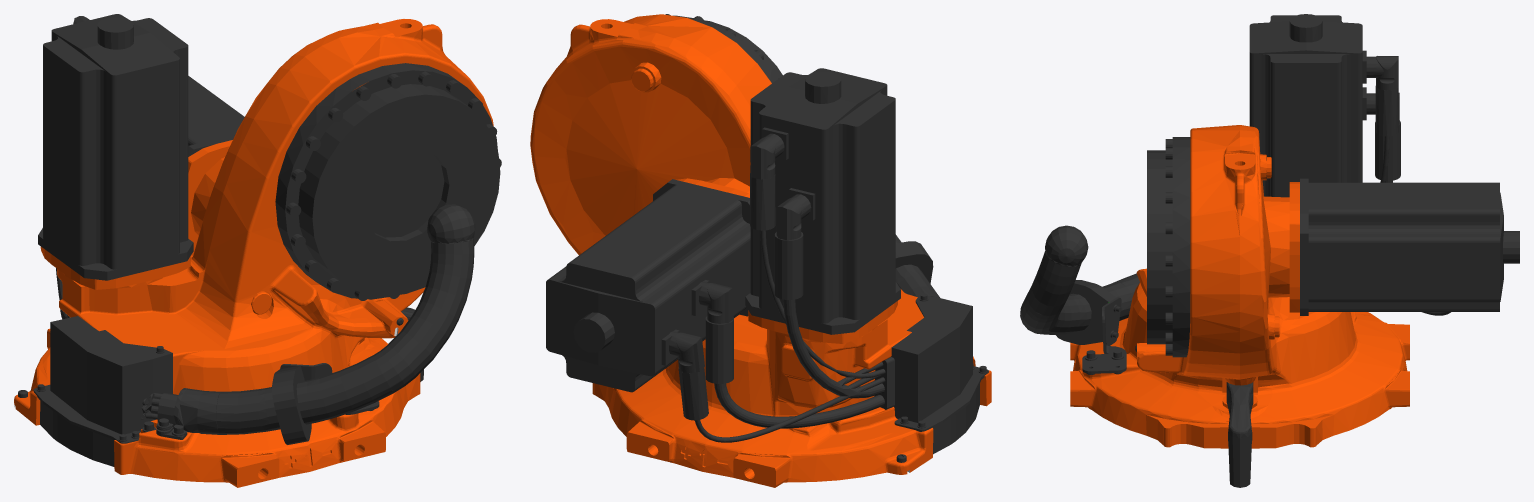
3 renders of one model, left to right at view 1: azimuth 30°, elevation 25°; view 2: azimuth 150°, elevation 25°; view 3: azimuth 270°, elevation 25°, orthographic. The views are drawn at different scales.
Parts seen in each view (by area): view 1: link_1; view 2: link_1; view 3: link_1.
Part boxes in pixels (x1=…): link_1: x1=14, y1=14, x2=501, y2=487; link_1: x1=530, y1=14, x2=991, y2=487; link_1: x1=1020, y1=14, x2=1519, y2=487.
Bounding box in the file's own units: 0.4839 × 0.5622 × 0.4337.
